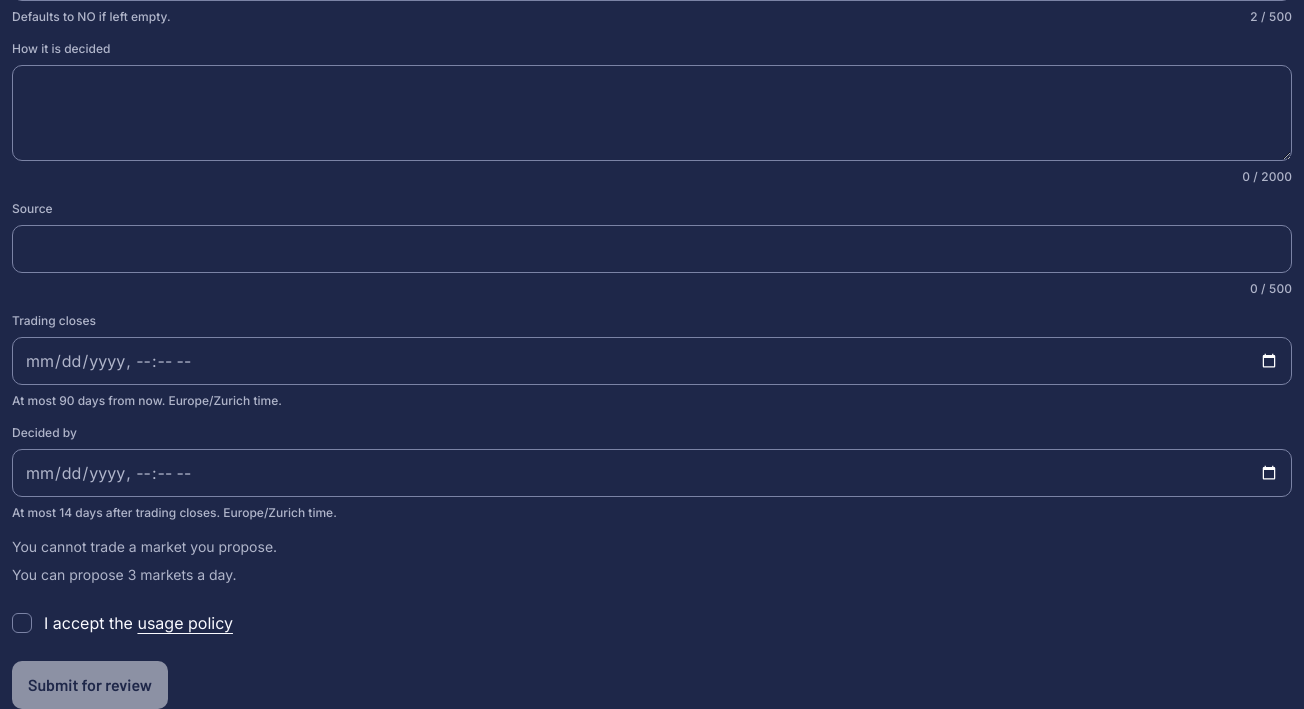
Test: the form › ends with the usage-policy checkbox, unticked, whose link opens the policy in the same tab
The image size is (1304, 709).
(page scrolled)
Expected: the checkbox named "I accept the usage policy" is not checked, 12,613 -> 32,633
Step 1. Click the text "I accept the" → [138, 623], box 44,613 -> 233,633
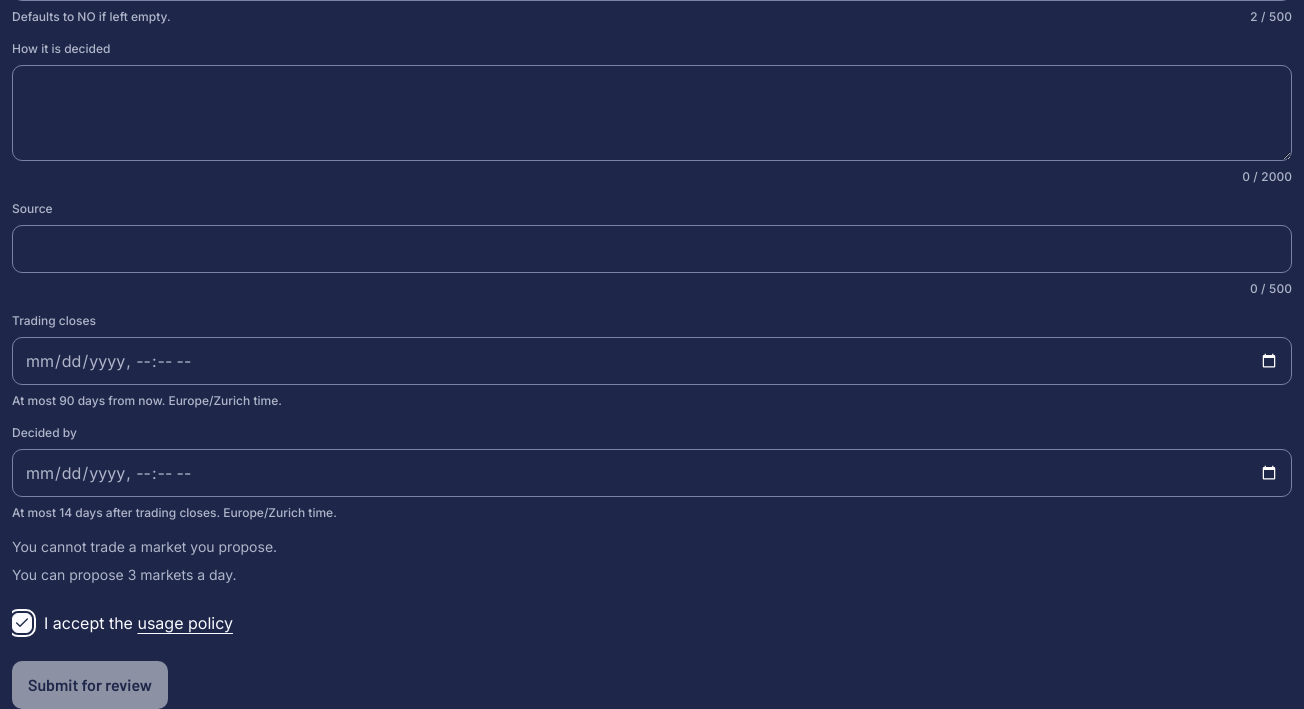
Now the checkbox named "I accept the usage policy" is checked, box 12,613 -> 32,633
